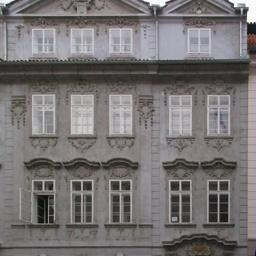building: (0, 0, 254, 256)
